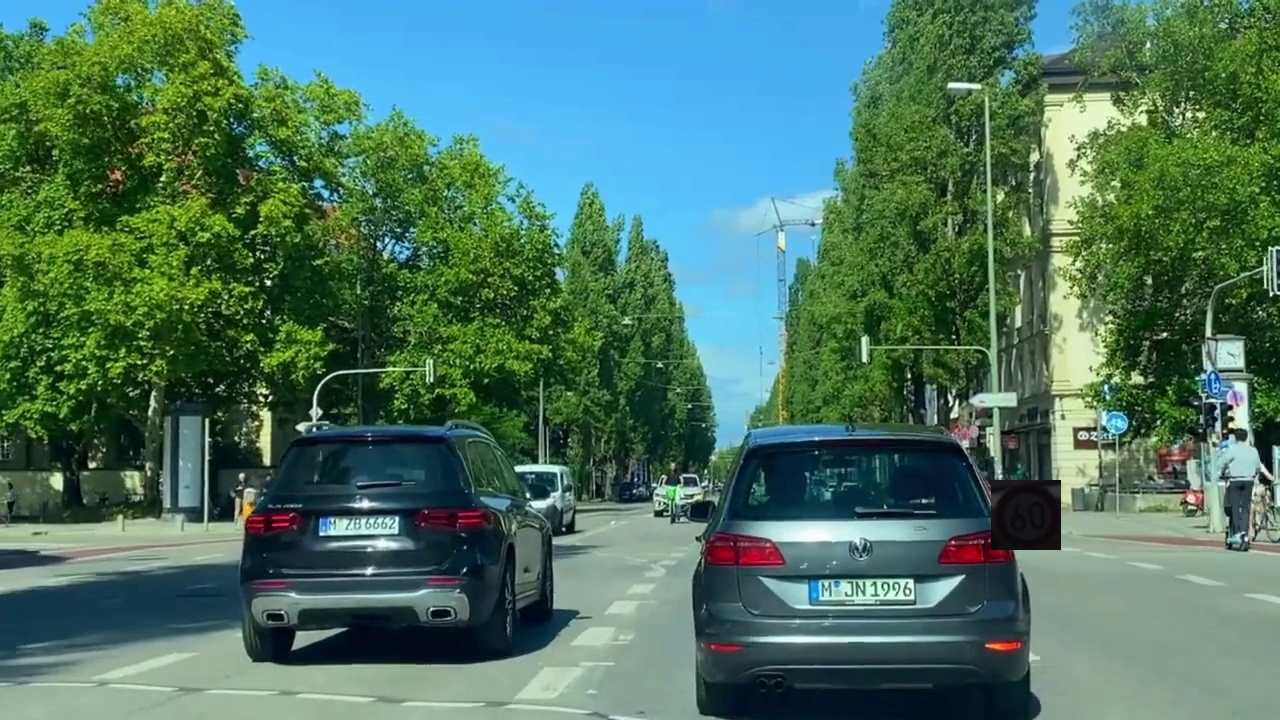Speed 60: (991, 480, 1061, 550)
